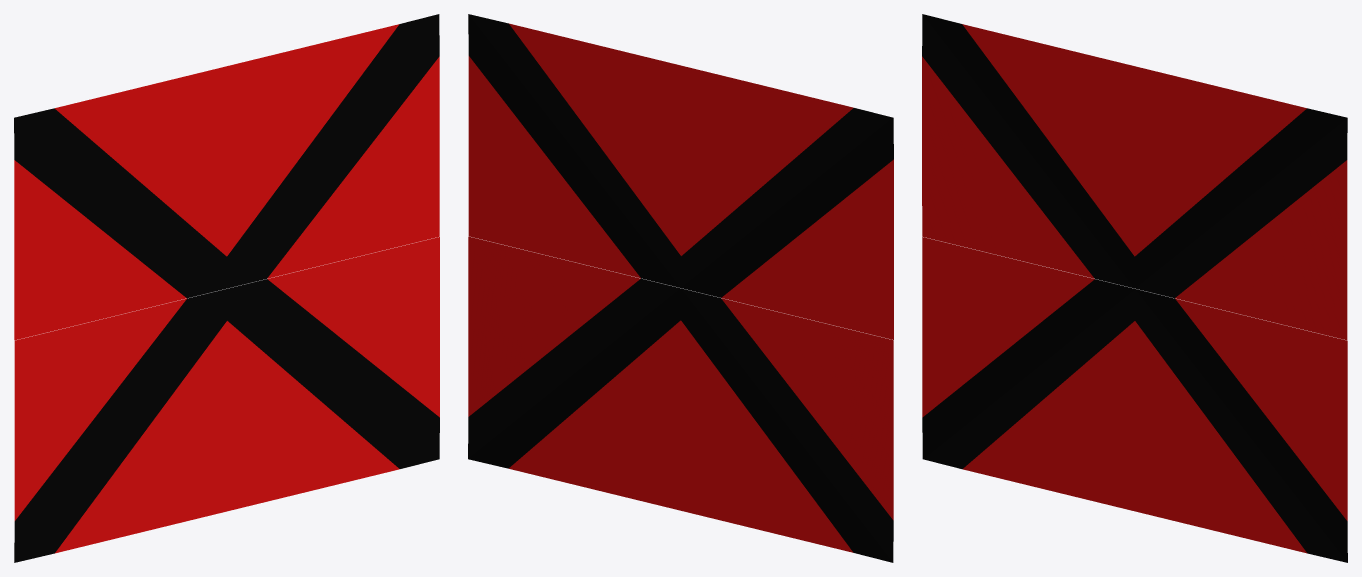
The model's file is trap_animatedv2.FBX.
3 renders of one model, left to right at view 1: azimuth 30°, elevation 25°; view 2: azimuth 150°, elevation 25°; view 3: azimuth 330°, elevation 25°, orthographic.
Parts seen in each view (by area): view 1: Plane004, Plane003; view 2: Plane003, Plane004; view 3: Plane004, Plane003.
Part boxes in pixels (x1=…): Plane004: x1=14, y1=237, x2=439, y2=562; Plane003: x1=14, y1=14, x2=439, y2=340; Plane003: x1=468, y1=14, x2=893, y2=339; Plane004: x1=468, y1=236, x2=893, y2=562; Plane004: x1=922, y1=237, x2=1347, y2=562; Plane003: x1=922, y1=14, x2=1347, y2=340.
Bounding box in the file's own units: 50.03 × 50.03 × 0.0834.
